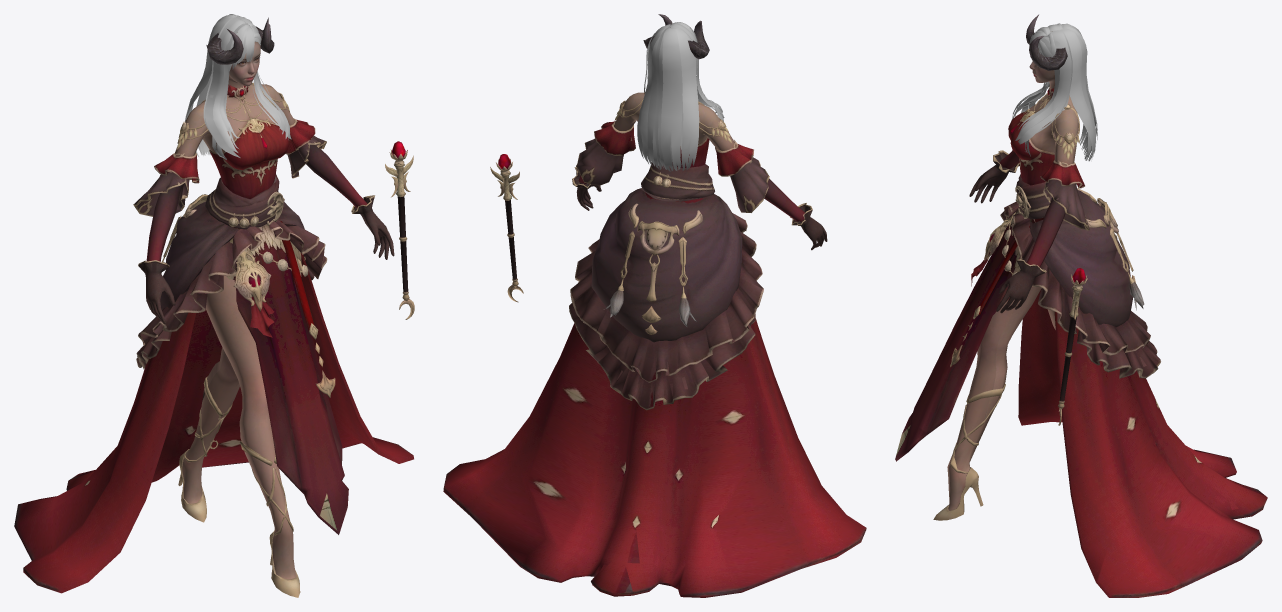
File: beautiful_witch.glb
3 renders of one model, left to right at view 1: azimuth 30°, elevation 25°; view 2: azimuth 150°, elevation 25°; view 3: azimuth 270°, elevation 25°, orthographic. The views are drawn at different scales.
Parts seen in each view (by area): view 1: Object_2, Object_3; view 2: Object_2, Object_3; view 3: Object_2, Object_3.
Part boxes in pixels (<box>): Object_2: <box>14,17,414,597</box>; Object_3: <box>185,14,291,159</box>; Object_2: <box>443,14,866,597</box>; Object_3: <box>637,22,724,171</box>; Object_2: <box>895,14,1267,597</box>; Object_3: <box>1011,23,1097,161</box>.
Bounding box in the file's own units: 138 × 175 × 117.
Materials: 2 (1 with a texture image).
